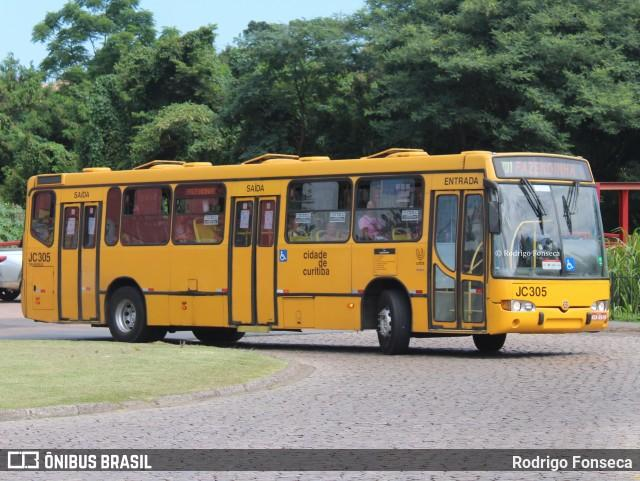FAZENDINHA: (513, 157, 579, 181)
